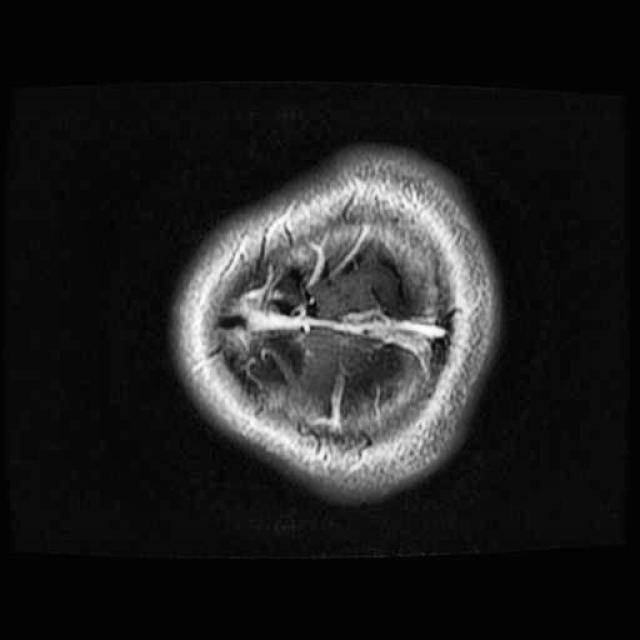Tumor: (242, 253, 331, 396)
